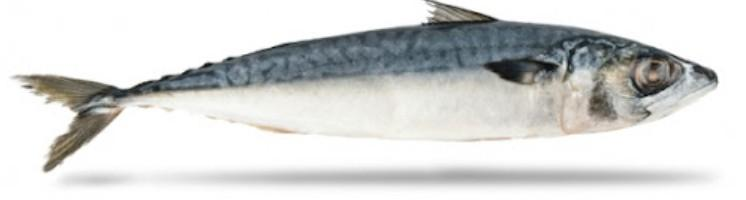fish: (16, 0, 717, 170)
